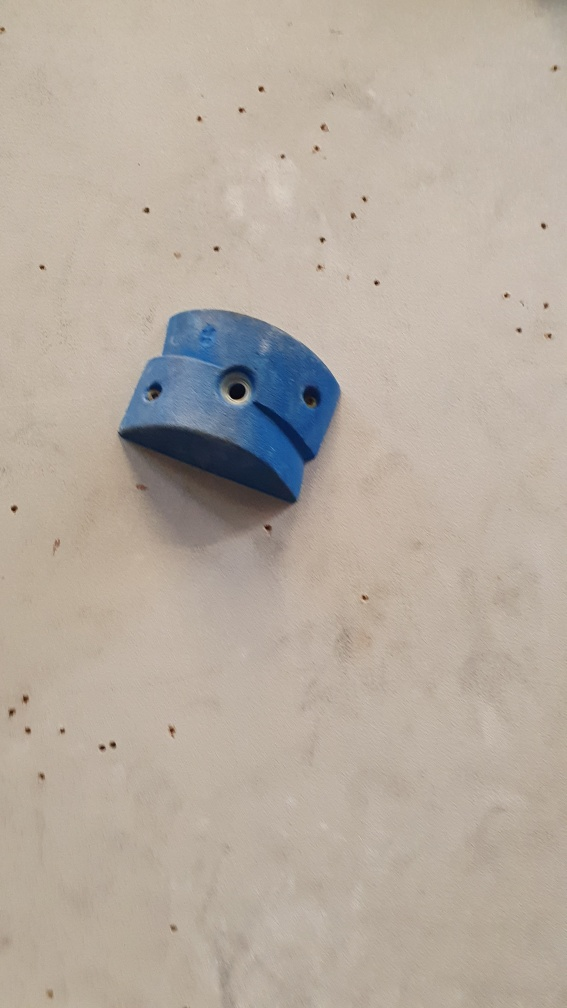Pinch: (116, 308, 344, 509)
